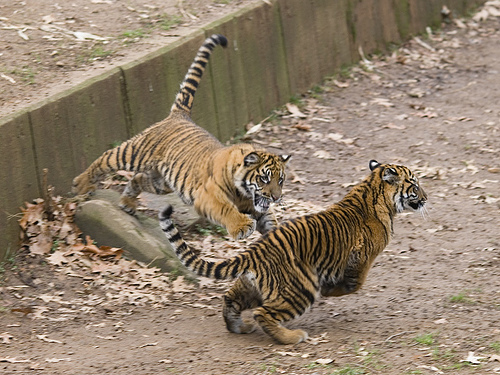Tigre: (224, 159, 434, 344), (109, 108, 289, 226)
